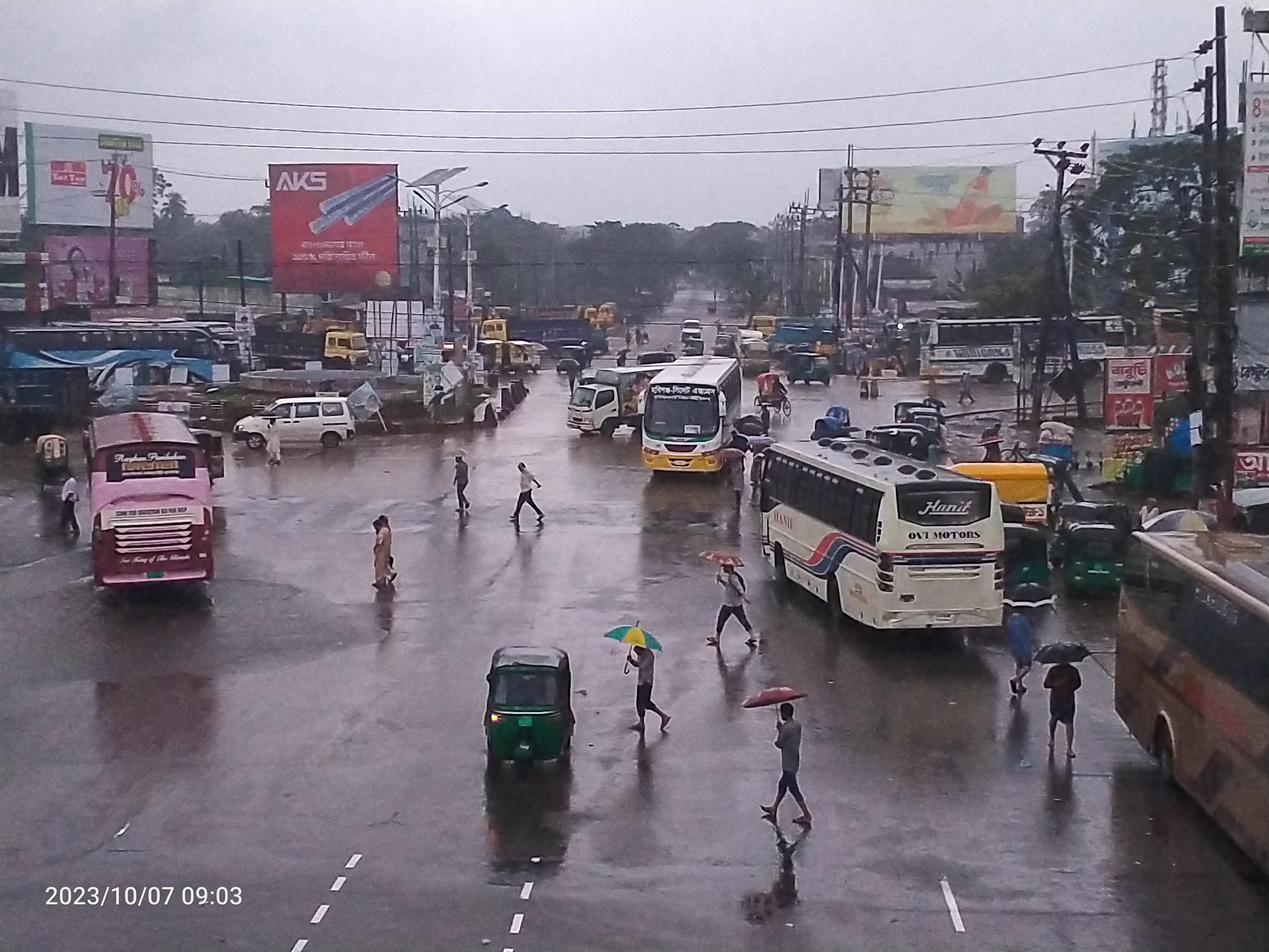Bus: (737, 417, 1021, 660), (1103, 493, 1269, 887), (0, 299, 278, 444), (68, 402, 231, 622), (603, 334, 767, 509), (902, 290, 1153, 399)
Car: (227, 373, 364, 465), (746, 364, 796, 430), (669, 307, 702, 344)
Truck: (553, 350, 662, 452), (245, 313, 373, 382), (743, 285, 845, 353), (468, 307, 615, 353)
